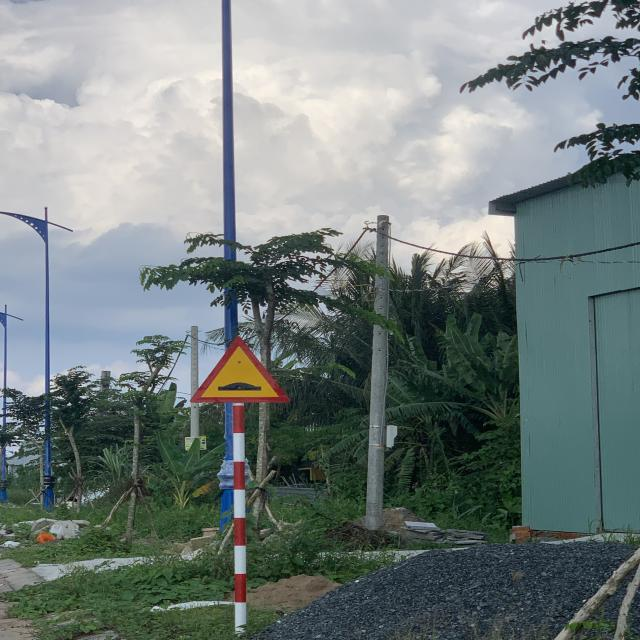Duong_Cong_Ben_Phai: (190, 335, 290, 402)
